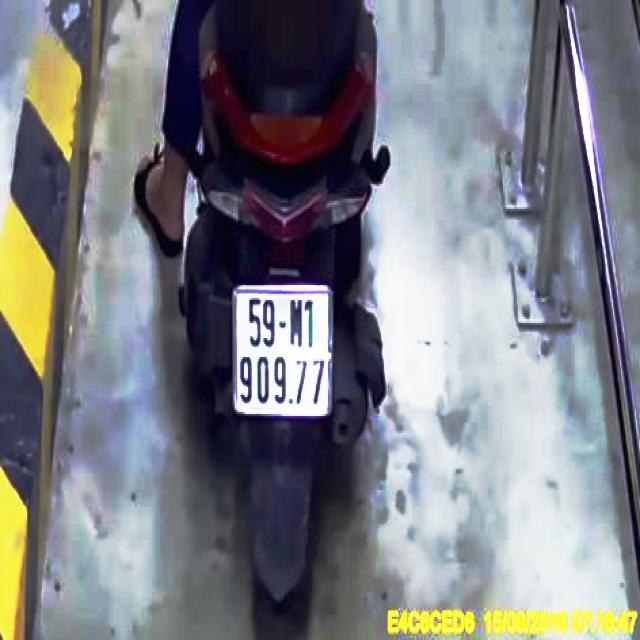license_plate: (235, 289, 332, 416)
